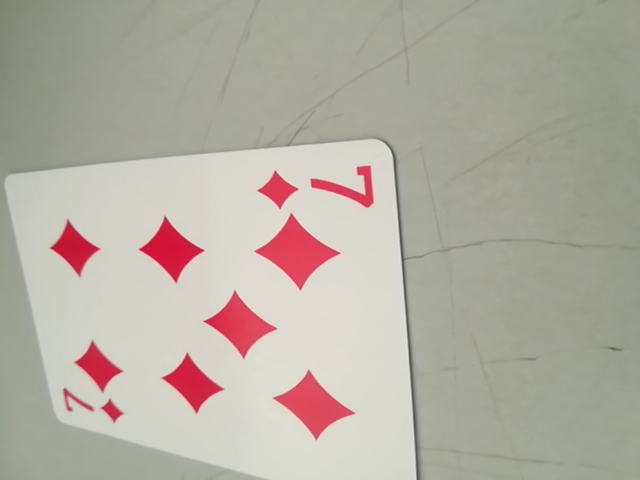fk 7: (254, 154, 379, 213), (53, 388, 125, 428)
